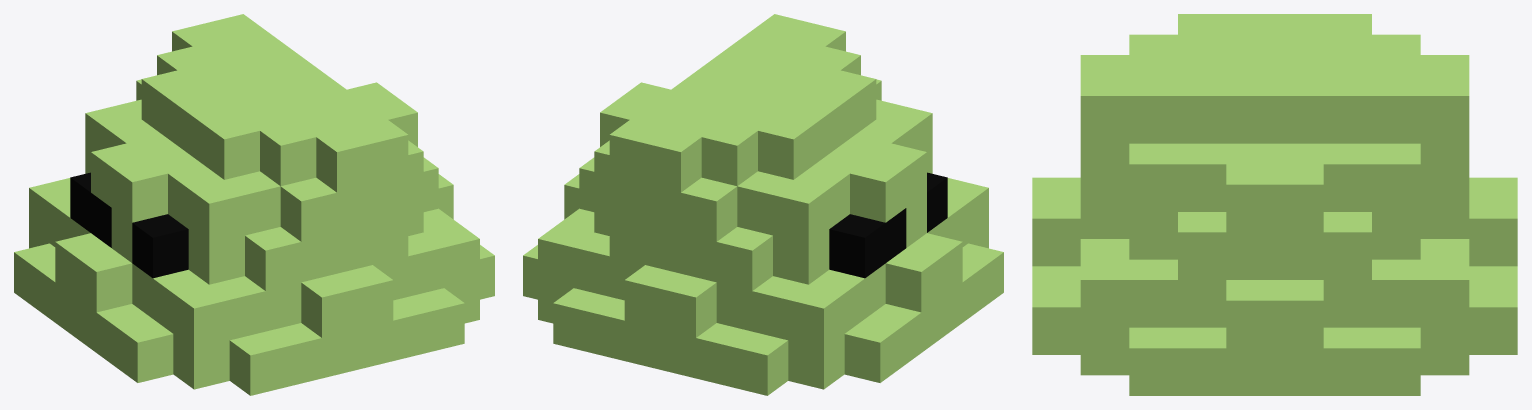
The model's file is frog-hat-j-toastie_IBL2UX2eOZ-blocky.glb.
3 views of the same model, side by side, from view 1: azimuth 30°, elevation 25°; view 2: azimuth 150°, elevation 25°; view 3: azimuth 270°, elevation 25° (orthographic). The views are drawn at different scales.
Parts seen in each view (by area): view 1: FrogHat_Cylinder; view 2: FrogHat_Cylinder; view 3: FrogHat_Cylinder.
Part boxes in pixels (x1=…): FrogHat_Cylinder: x1=14, y1=14, x2=494, y2=395; FrogHat_Cylinder: x1=523, y1=14, x2=1003, y2=395; FrogHat_Cylinder: x1=1032, y1=14, x2=1517, y2=395.
Size of the model in its own units: 0.934 by 0.506 by 0.934.
